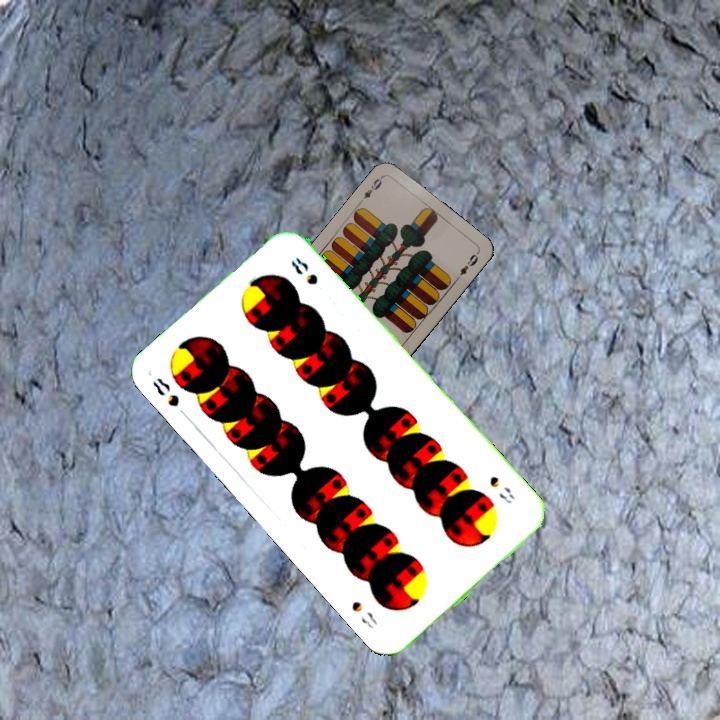E9: (356, 172, 386, 206)
S8: (148, 373, 192, 422), (485, 471, 518, 507)
